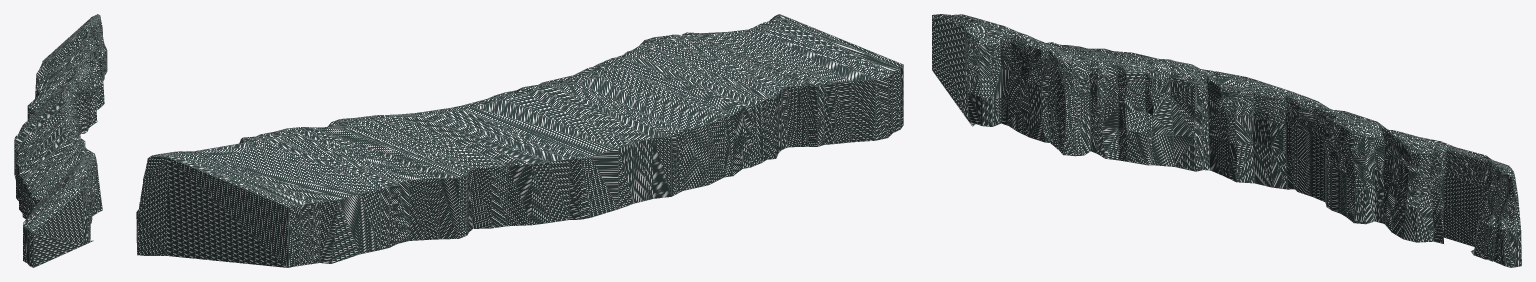
Rendered from american_falls.gltf.
The picture shows the model from 3 angles, left to right: view 1: azimuth 30°, elevation 25°; view 2: azimuth 150°, elevation 25°; view 3: azimuth 270°, elevation 25°; orthographic projection. The views are drawn at different scales.
Parts seen in each view (by area): view 1: Water; view 2: Water; view 3: Water.
Boxes of the visible parts, left/top/right/bottom form: Water: left=14, top=14, right=107, bottom=267; Water: left=136, top=14, right=903, bottom=267; Water: left=932, top=14, right=1521, bottom=267.
Size of the model in its own units: 314 by 67.91 by 394.
